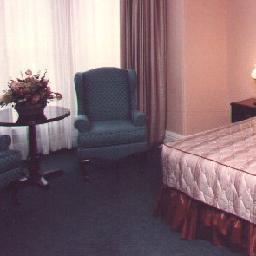Cama: (160, 112, 255, 227)
